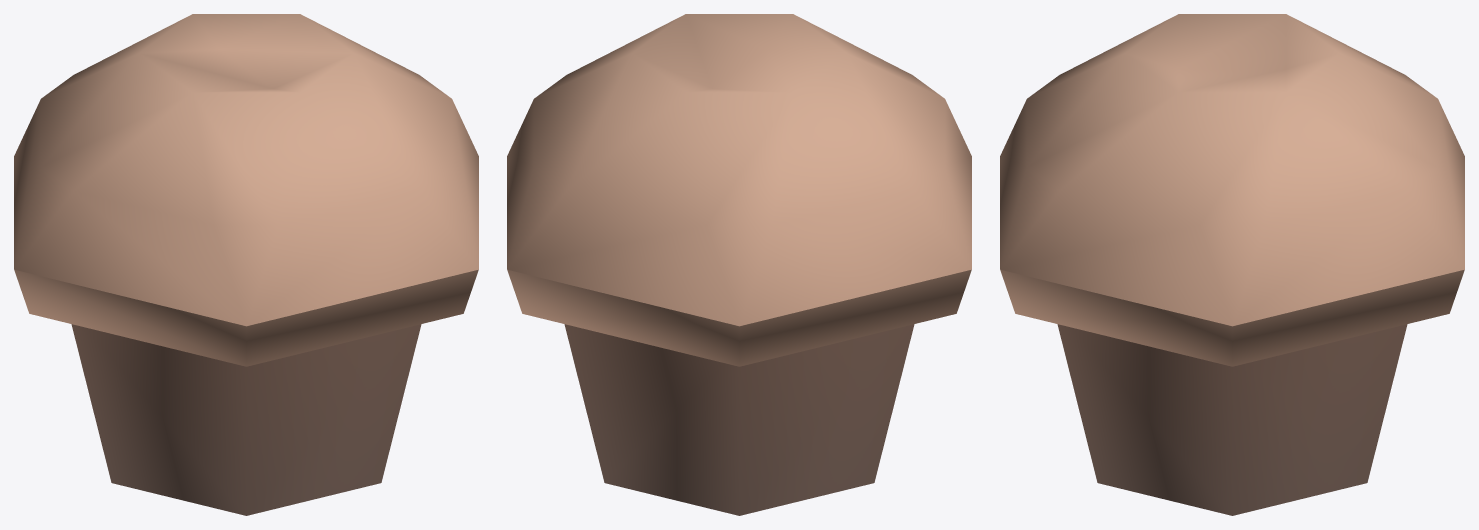
Rendered from muffin.glb.
The picture shows the model from 3 angles, left to right: view 1: azimuth 30°, elevation 25°; view 2: azimuth 150°, elevation 25°; view 3: azimuth 270°, elevation 25°; orthographic projection.
Visible parts, largest first — view 1: muffin; view 2: muffin; view 3: muffin.
Boxes of the visible parts, <box> form: muffin: <box>14,14,478,515</box>; muffin: <box>507,14,971,515</box>; muffin: <box>1000,14,1464,515</box>.
Size of the model in its own units: 0.3047 by 0.2486 by 0.2639.
